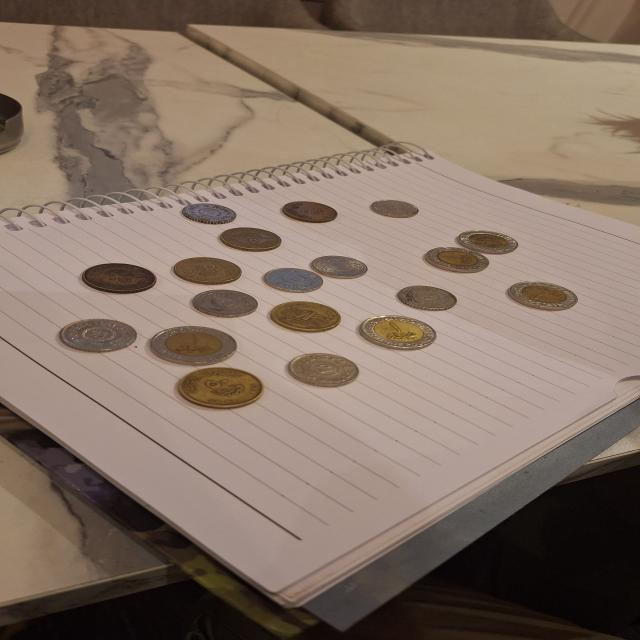Half Pound: (174, 366, 272, 410), (72, 261, 161, 295), (266, 297, 342, 334), (167, 255, 244, 284), (222, 225, 284, 252), (281, 201, 342, 226)
One Pound: (144, 322, 241, 366), (497, 277, 597, 314), (355, 312, 436, 353), (422, 246, 493, 274), (455, 227, 523, 256)
quarter pound: (56, 315, 143, 353), (286, 351, 366, 388), (188, 290, 264, 319), (396, 284, 462, 312), (259, 266, 330, 292), (177, 200, 240, 226), (309, 254, 374, 278), (368, 199, 423, 219)
